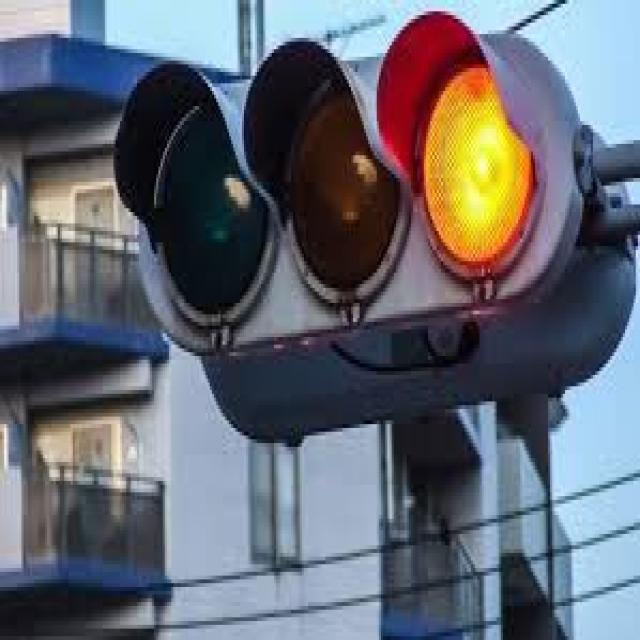red: (380, 85, 538, 277)
